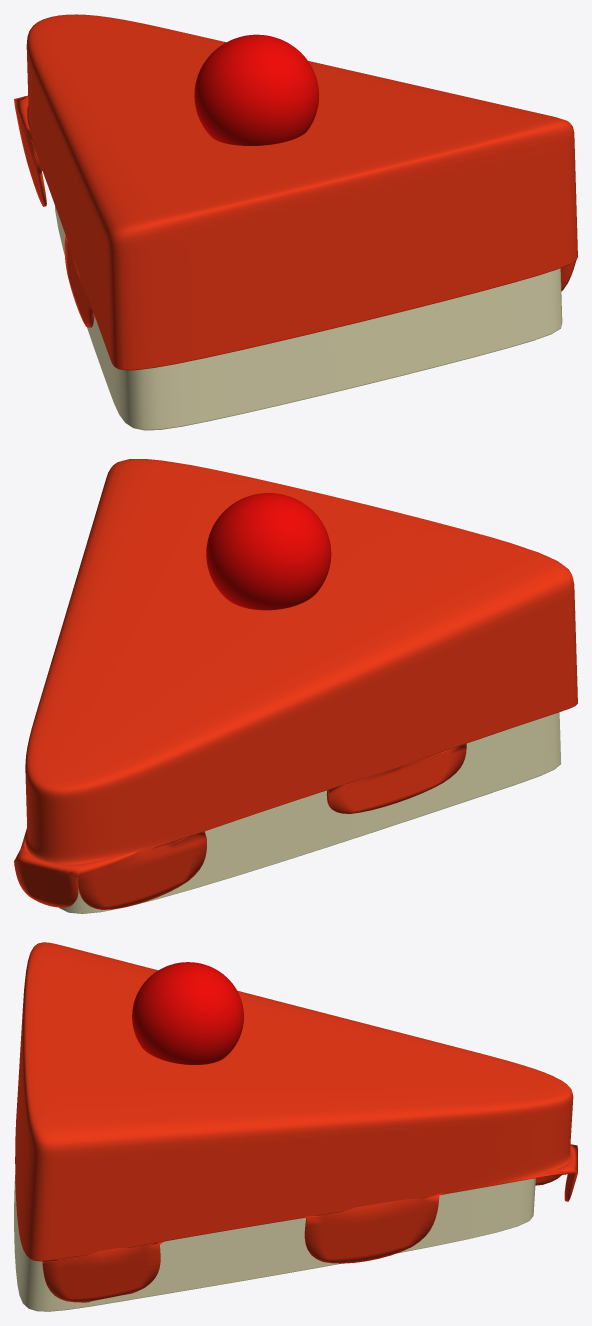
File: cheescake_tere.fbx
The picture shows the model from 3 angles, top to bottom: view 1: azimuth 30°, elevation 25°; view 2: azimuth 150°, elevation 25°; view 3: azimuth 270°, elevation 25°; orthographic projection. The views are drawn at different scales.
Visible parts, largest first — view 1: Cube.001, Cube, Sphere; view 2: Cube.001, Cube, Sphere; view 3: Cube.001, Cube, Sphere.
Part boxes in pixels (x1=…): Cube.001: x1=14, y1=14, x2=577, y2=370; Cube: x1=55, y1=206, x2=562, y2=430; Sphere: x1=194, y1=34, x2=319, y2=145; Cube.001: x1=14, y1=459, x2=577, y2=909; Cube: x1=59, y1=712, x2=561, y2=913; Sphere: x1=206, y1=493, x2=331, y2=610; Cube.001: x1=15, y1=942, x2=577, y2=1302; Cube: x1=14, y1=1175, x2=535, y2=1311; Sphere: x1=132, y1=962, x2=243, y2=1064.
Size of the model in its own units: 172 by 97.86 by 201.
